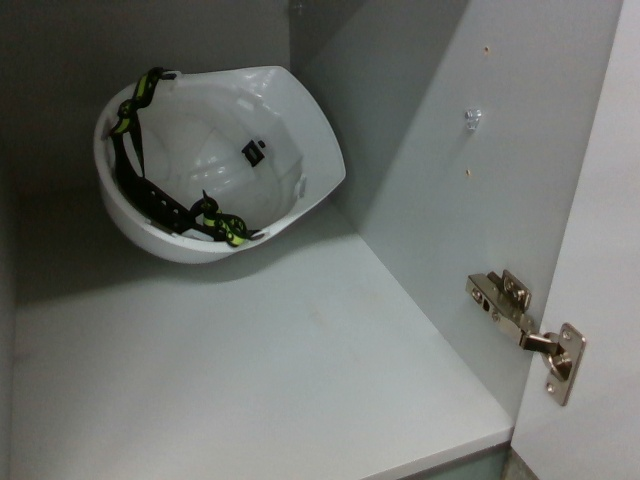helmet: (91, 57, 357, 268)
